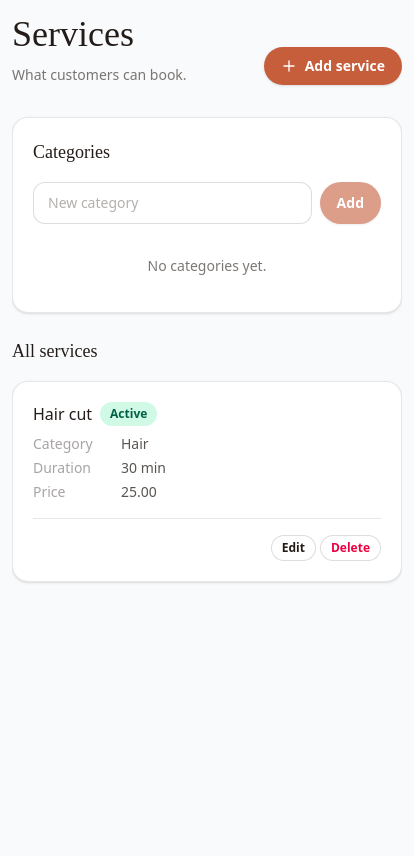
it: ServicesView — the phone (md:hidden) catalogue list › opens the edit form, not the create form, from the card
Click the button "Edit": click(293, 548) [271,535,316,561]
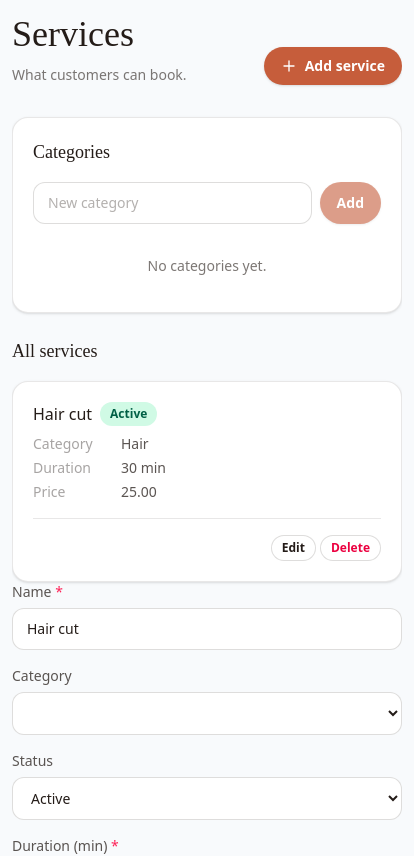
Expected: the 2nd field holds "Hair cut", [12,608,402,650]
